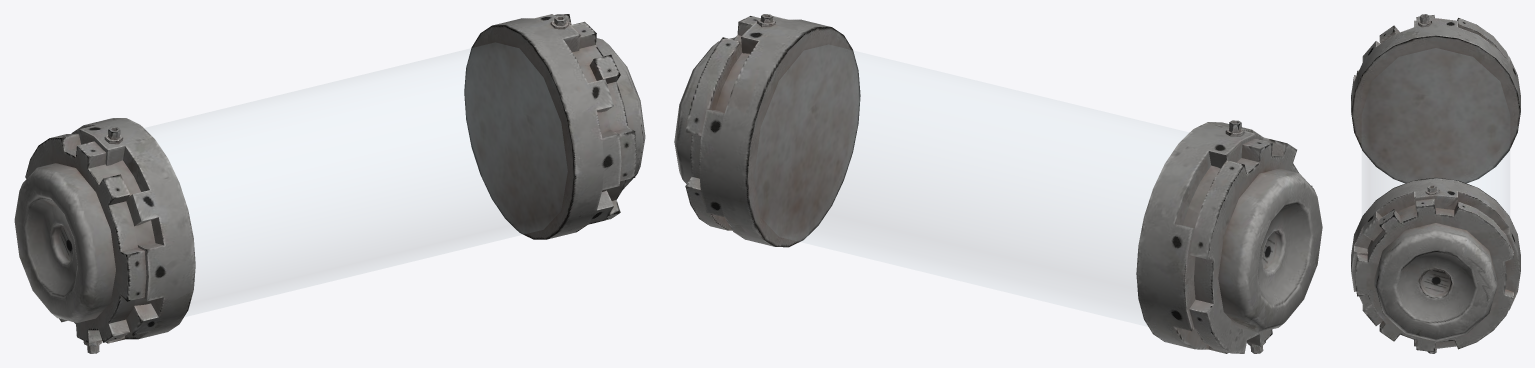
File: mep-capsule.glb
3 views of the same model, side by side, from view 1: azimuth 30°, elevation 25°; view 2: azimuth 150°, elevation 25°; view 3: azimuth 270°, elevation 25° (orthographic). The views are drawn at different scales.
Visible parts, largest first — view 1: MEP(Clone); view 2: MEP(Clone); view 3: MEP(Clone).
Boxes of the visible parts, x1=… form: MEP(Clone): x1=14, y1=14, x2=645, y2=353; MEP(Clone): x1=674, y1=14, x2=1322, y2=353; MEP(Clone): x1=1351, y1=14, x2=1520, y2=353.
Bounding box in the file's own units: 1.06 × 0.3967 × 0.3629.
Materials: 2 (1 with a texture image).
